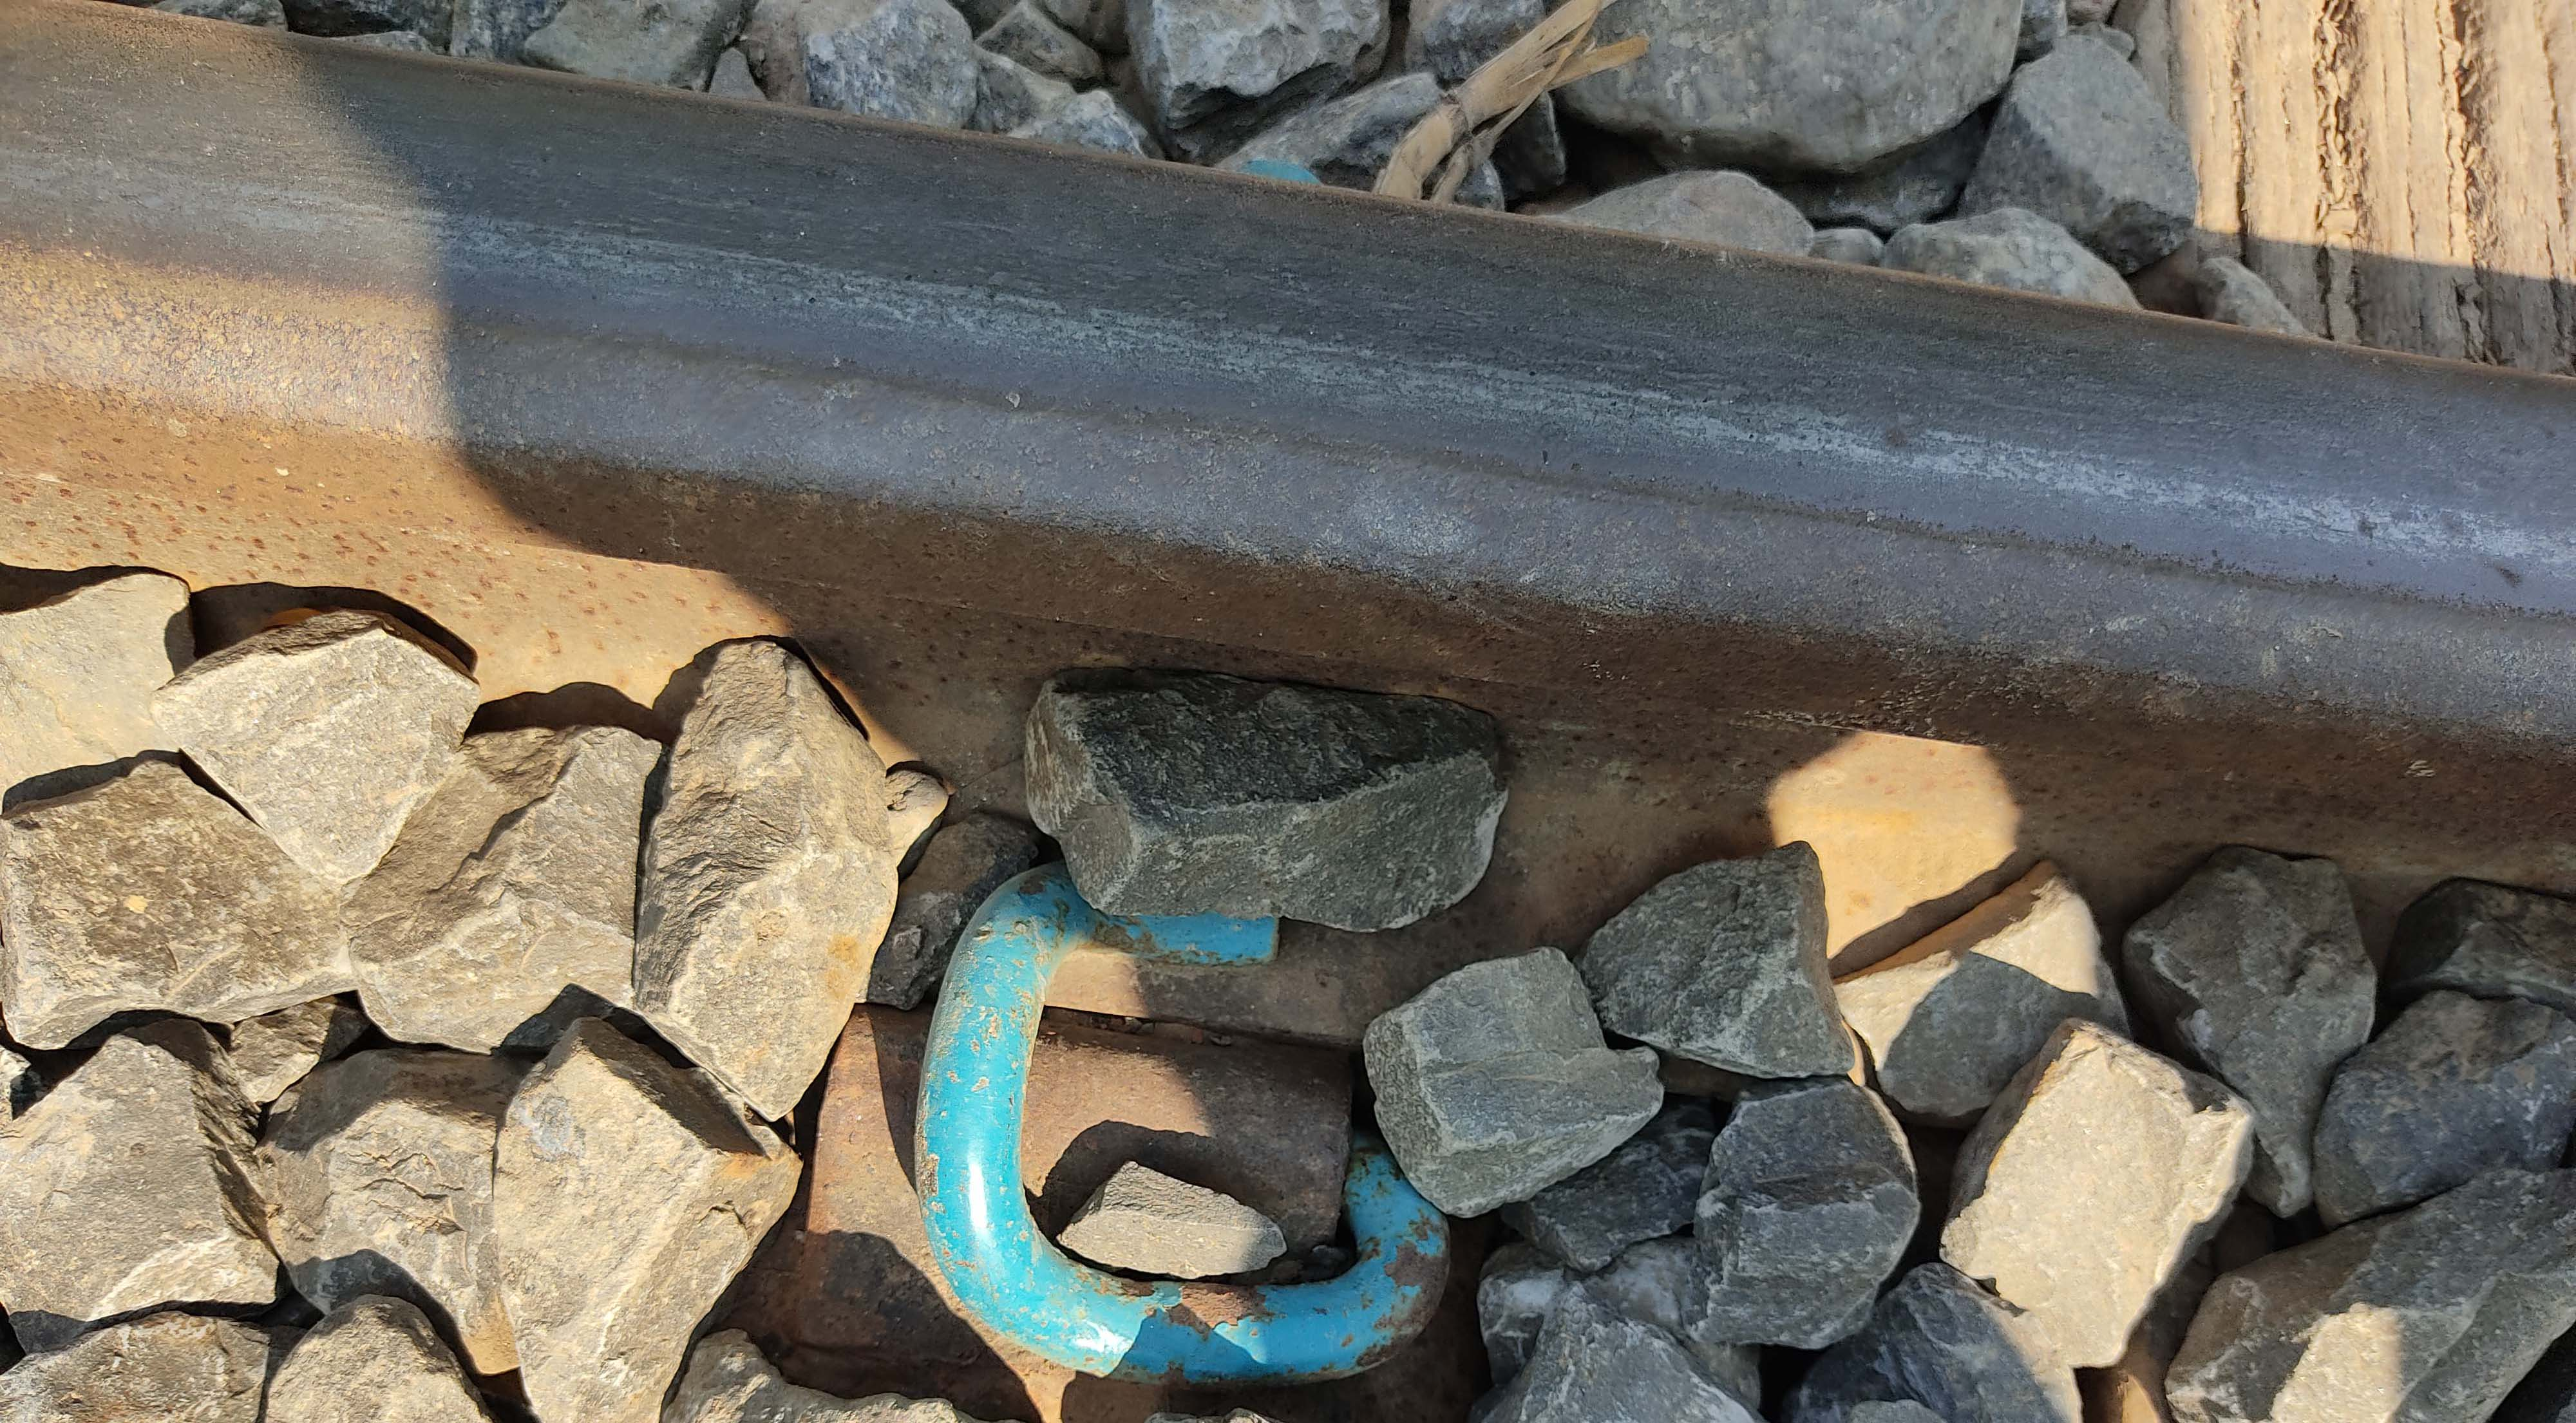error1: (876, 803, 1603, 1419)
